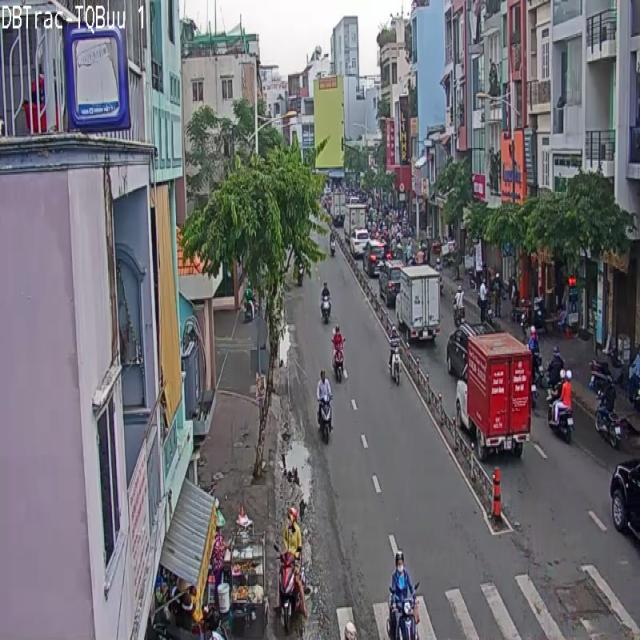car: (278, 540, 306, 631), (390, 550, 418, 639), (316, 370, 332, 442), (332, 326, 343, 381), (388, 327, 398, 383)
truck: (454, 326, 532, 461), (395, 265, 438, 340)
